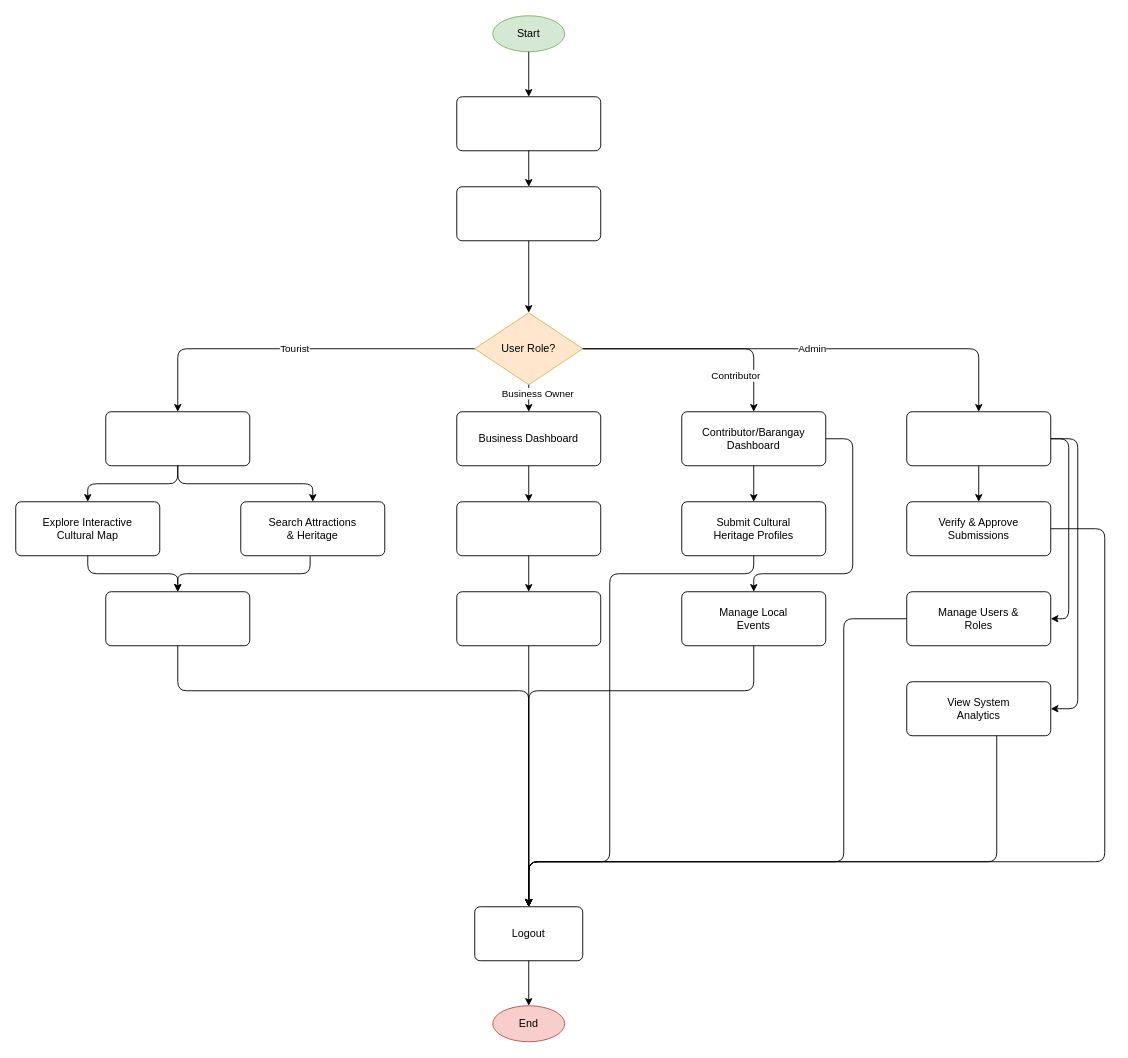
Some shapes in this 1128 by 1058 pixel diagram are drawn without their labels. Here are the shapes that lost their labels. From the top down, the centre of each, then its label:
At pixel 528 123: "Access GoMangatarem Portal".
At pixel 528 213: "Login / Register".
At pixel 177 438: "Tourist Dashboard".
At pixel 978 438: "Admin Dashboard".
At pixel 528 528: "Manage Establishments (Rooms/Menus)".
At pixel 177 618: "Leave Reviews, Ratings & Favorites".
At pixel 528 618: "Update Availability & Pricing".
